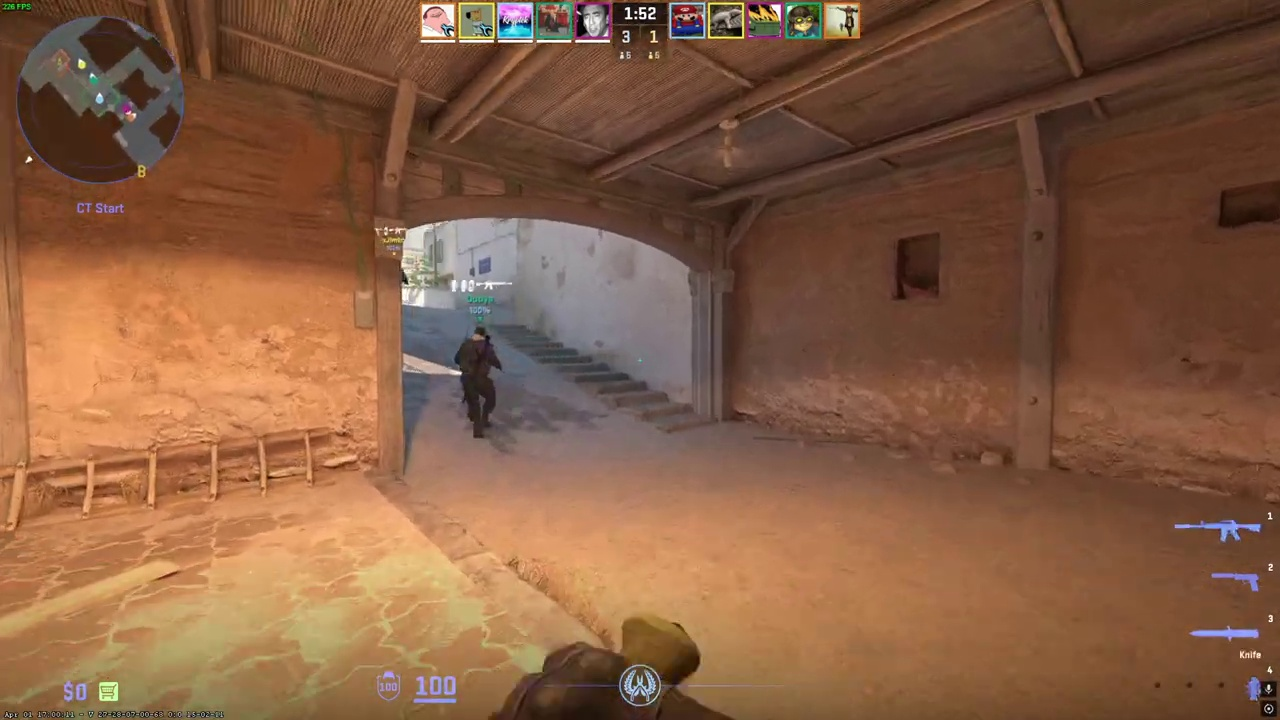CT: (458, 326, 501, 435)
